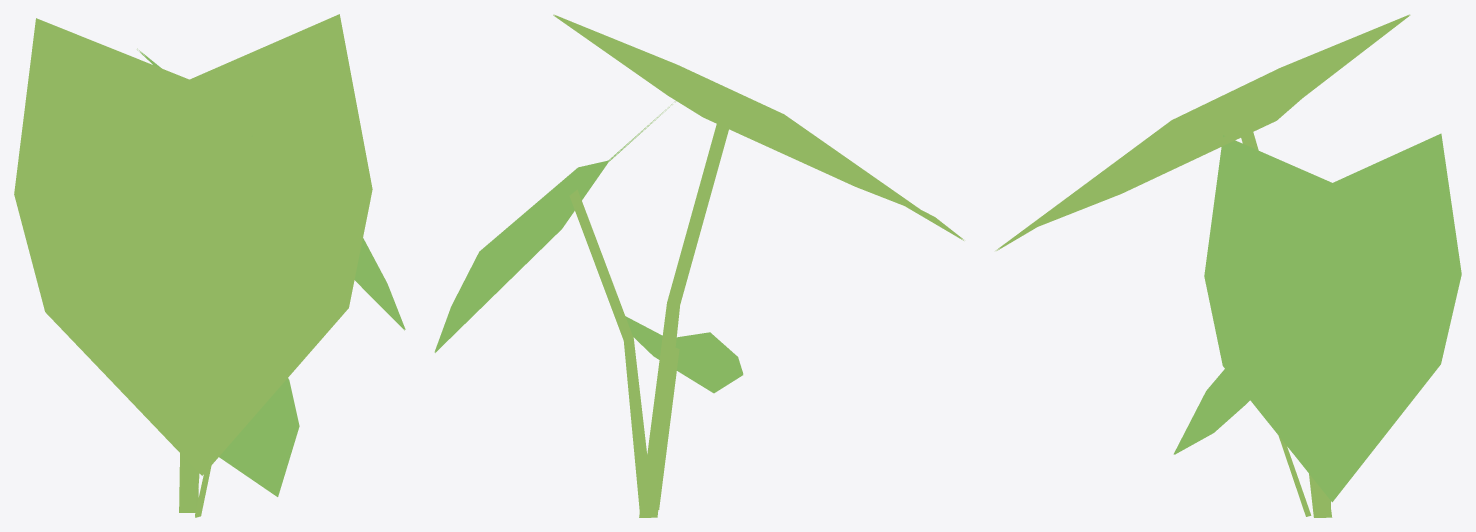
Rendered from Plant_c_TwoS_03.fbx.
3 renders of one model, left to right at view 1: azimuth 30°, elevation 25°; view 2: azimuth 150°, elevation 25°; view 3: azimuth 270°, elevation 25°, orthographic. The views are drawn at different scales.
Visible parts, largest first — view 1: Plant_c_TwoS_03; view 2: Plant_c_TwoS_03; view 3: Plant_c_TwoS_03.
Part boxes in pixels (x1=…): Plant_c_TwoS_03: x1=14, y1=14, x2=405, y2=517; Plant_c_TwoS_03: x1=434, y1=14, x2=963, y2=517; Plant_c_TwoS_03: x1=995, y1=14, x2=1461, y2=517.
Bounding box in the file's own units: 0.5374 × 0.5568 × 0.5205.
